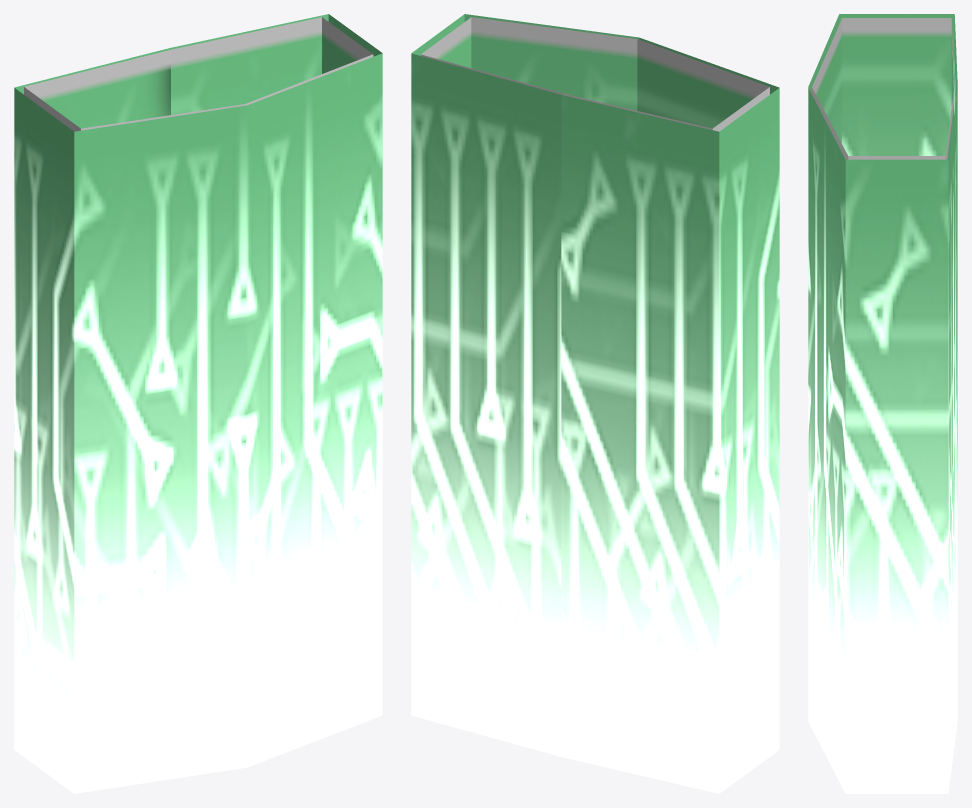
The model's file is base_sheath_mesh.FBX.
3 renders of one model, left to right at view 1: azimuth 30°, elevation 25°; view 2: azimuth 150°, elevation 25°; view 3: azimuth 270°, elevation 25°, orthographic. The views are drawn at different scales.
Visible parts, largest first — view 1: Object001; view 2: Object001; view 3: Object001.
Part boxes in pixels (x1=…): Object001: x1=14, y1=14, x2=382, y2=793; Object001: x1=411, y1=14, x2=779, y2=793; Object001: x1=808, y1=14, x2=957, y2=793.
Bounding box in the file's own units: 23.89 × 10.37 × 48.49.
